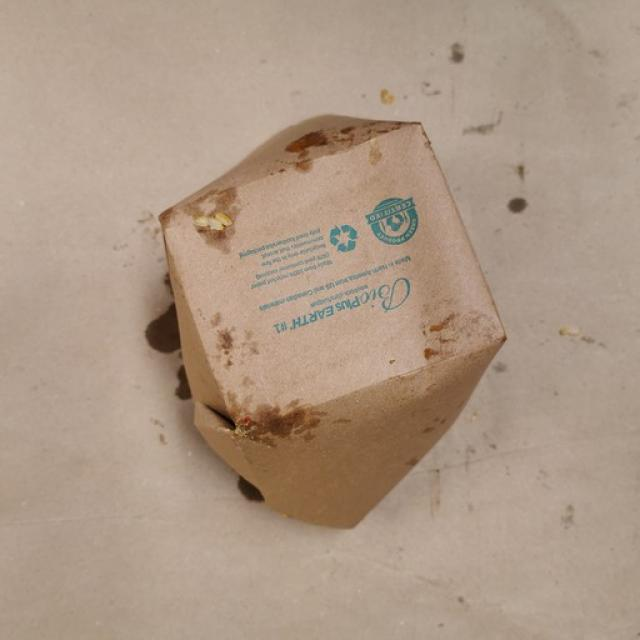PaperCardboard: (158, 116, 508, 530)
